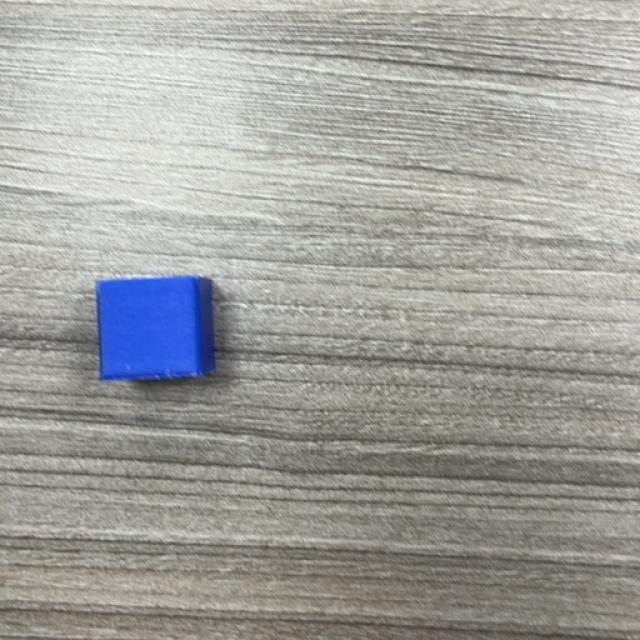Azul: (95, 276, 216, 381)
